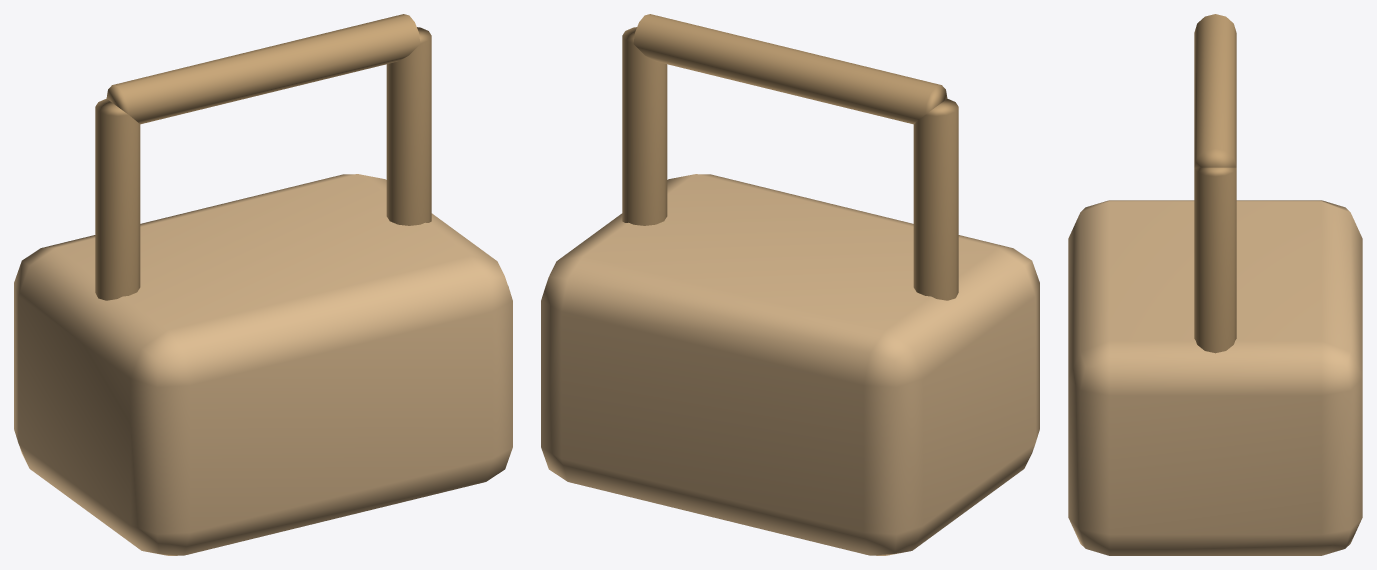
File: collection_basket.glb
3 renders of one model, left to right at view 1: azimuth 30°, elevation 25°; view 2: azimuth 150°, elevation 25°; view 3: azimuth 270°, elevation 25°, orthographic. The views are drawn at different scales.
Bounding box in the file's own units: 0.35 × 0.378 × 0.25.
